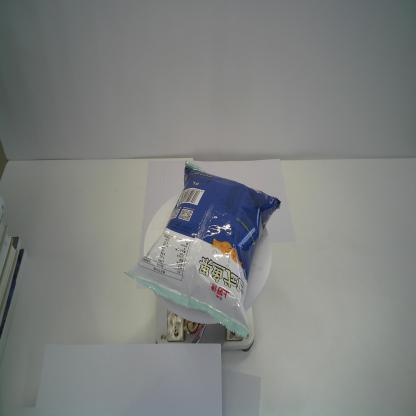Puffed Food: (124, 159, 282, 340)
